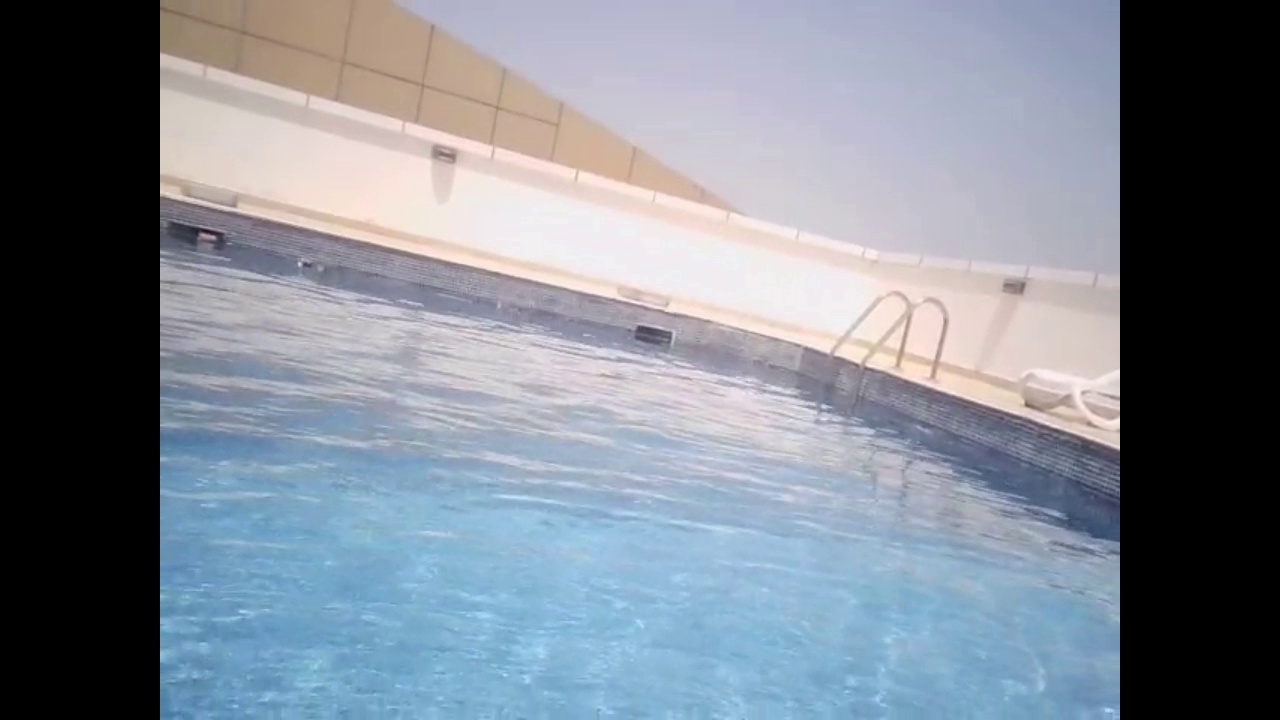debris: (308, 257, 329, 276), (294, 256, 314, 273), (194, 230, 217, 243)
